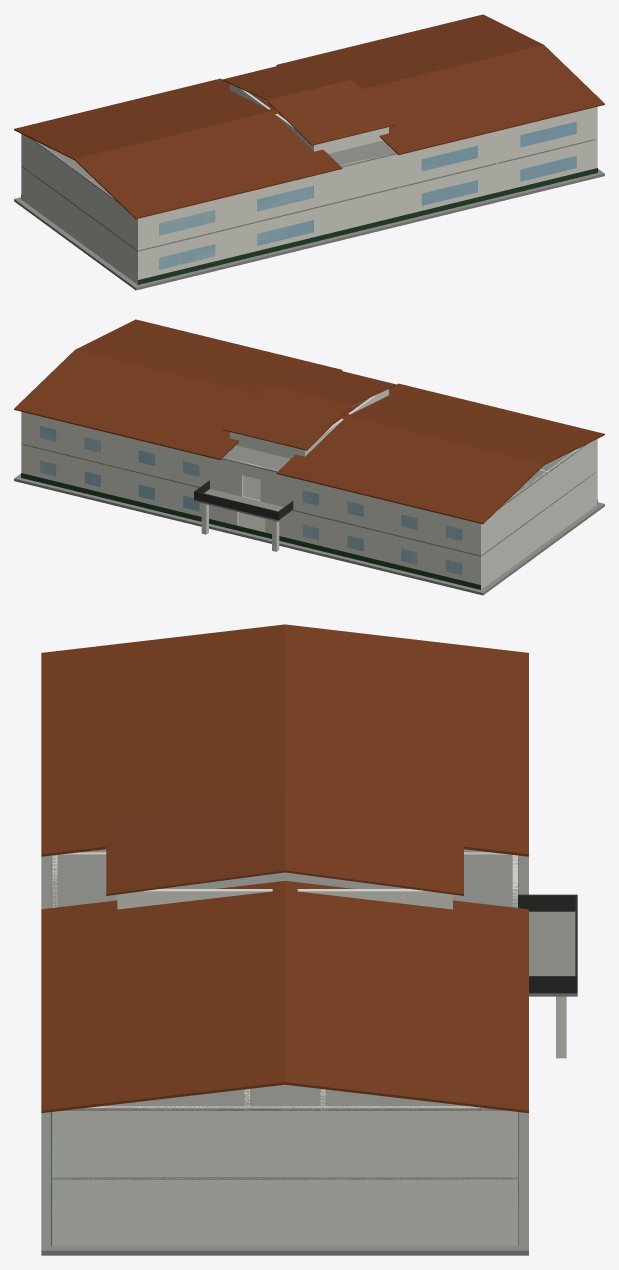
The model's file is BlocoInstrucao_V4.obj.
3 views of the same model, one above another, from view 1: azimuth 30°, elevation 25°; view 2: azimuth 150°, elevation 25°; view 3: azimuth 270°, elevation 25° (orthographic). The views are drawn at different scales.
Parts seen in each view (by area): view 1: RoofLeftBack, RoofRightBack, BackLeftWing, BackRightWing, RoofLeftFront, RoofRightFront, OuterLeft, WinBack, RoofCoreBack, BackCenter, GroundSlab, RoofCoreFront (+5 smaller); view 2: RoofLeftFront, RoofRightFront, FrontLeftWing, FrontRightWing, RoofLeftBack, RoofRightBack, OuterLeft, RoofCoreFront, GroundSlab, RoofCoreBack, GreenFront, WinF_Upper (+9 smaller); view 3: OuterRight, RoofRightBack, RoofRightFront, RoofLeftBack, RoofLeftFront, RoofCoreFront, RoofCoreBack, CeilingSlab, GroundSlab, TowerRight, BalconyFloor, SecondFloorSlab (+2 smaller).
Part boxes in pixels (x1=…): RoofLeftBack: x1=75, y1=110, x2=342, y2=219; RoofRightBack: x1=362, y1=45, x2=604, y2=155; BackLeftWing: x1=136, y1=171, x2=334, y2=284; BackRightWing: x1=400, y1=107, x2=595, y2=215; RoofLeftFront: x1=14, y1=78, x2=275, y2=160; RoofRightFront: x1=276, y1=14, x2=543, y2=89; OuterLeft: x1=21, y1=134, x2=140, y2=284; WinBack: x1=159, y1=121, x2=576, y2=269; RoofCoreBack: x1=267, y1=80, x2=396, y2=145; BackCenter: x1=335, y1=153, x2=400, y2=231; GroundSlab: x1=14, y1=169, x2=604, y2=290; RoofCoreFront: x1=222, y1=59, x2=351, y2=100; RoofLeftFront: x1=276, y1=415, x2=543, y2=524; RoofRightFront: x1=14, y1=350, x2=256, y2=460; FrontLeftWing: x1=284, y1=476, x2=482, y2=589; FrontRightWing: x1=21, y1=412, x2=218, y2=520; RoofLeftBack: x1=343, y1=383, x2=604, y2=465; RoofRightBack: x1=75, y1=319, x2=342, y2=394; OuterLeft: x1=478, y1=439, x2=597, y2=589; RoofCoreFront: x1=222, y1=385, x2=351, y2=450; GroundSlab: x1=14, y1=474, x2=604, y2=595; RoofCoreBack: x1=267, y1=364, x2=396, y2=405; GreenFront: x1=21, y1=473, x2=480, y2=589; WinF_Upper: x1=40, y1=426, x2=462, y2=540; OuterRight: x1=52, y1=1106, x2=517, y2=1245; RoofRightBack: x1=41, y1=881, x2=284, y2=1112; RoofRightFront: x1=285, y1=881, x2=528, y2=1112; RoofLeftBack: x1=41, y1=624, x2=284, y2=856; RoofLeftFront: x1=285, y1=624, x2=528, y2=856; RoofCoreFront: x1=285, y1=788, x2=463, y2=895; RoofCoreBack: x1=106, y1=788, x2=284, y2=895; CeilingSlab: x1=52, y1=849, x2=517, y2=1110; GroundSlab: x1=41, y1=855, x2=528, y2=1255; TowerRight: x1=117, y1=889, x2=452, y2=908; BalconyFloor: x1=529, y1=911, x2=577, y2=996; SecondFloorSlab: x1=52, y1=1177, x2=517, y2=1179.
Bounding box in the file's own units: 200 × 40.2 × 99.
